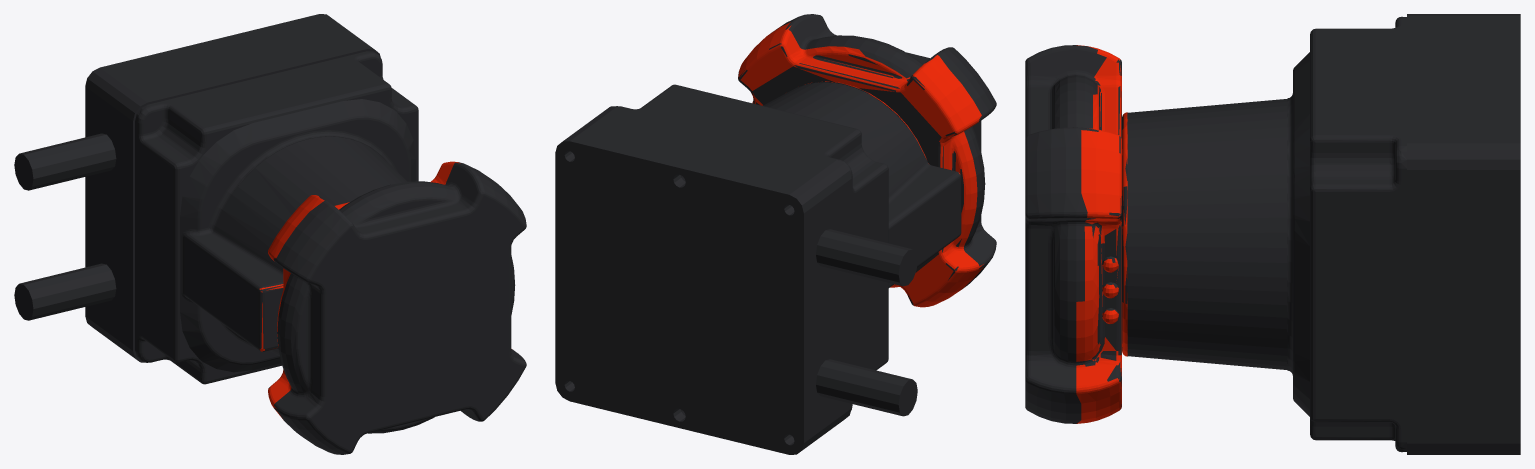
Rendered from hokuyo_utm30.dae.
The picture shows the model from 3 angles, left to right: view 1: azimuth 30°, elevation 25°; view 2: azimuth 150°, elevation 25°; view 3: azimuth 270°, elevation 25°; orthographic projection. The views are drawn at different scales.
Parts seen in each view (by area): view 1: Hokuyo Utm30, Hokuyo Utm30.001; view 2: Hokuyo Utm30, Hokuyo Utm30.001; view 3: Hokuyo Utm30, Hokuyo Utm30.001.
Boxes of the visible parts, <box> form: Hokuyo Utm30: <box>14,14,526,454</box>; Hokuyo Utm30.001: <box>259,161,460,418</box>; Hokuyo Utm30: <box>555,14,996,454</box>; Hokuyo Utm30.001: <box>738,22,983,307</box>; Hokuyo Utm30: <box>1025,14,1520,454</box>; Hokuyo Utm30.001: <box>1076,45,1127,423</box>.
Size of the model in its own units: 0.08 by 0.087 by 0.06.
